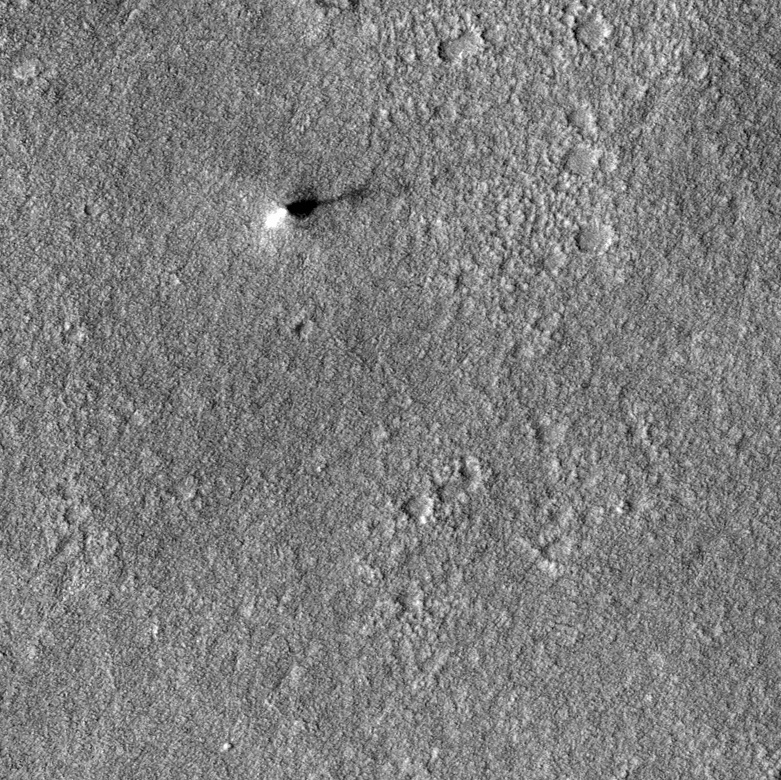dust_devil: (262, 180, 375, 231)
